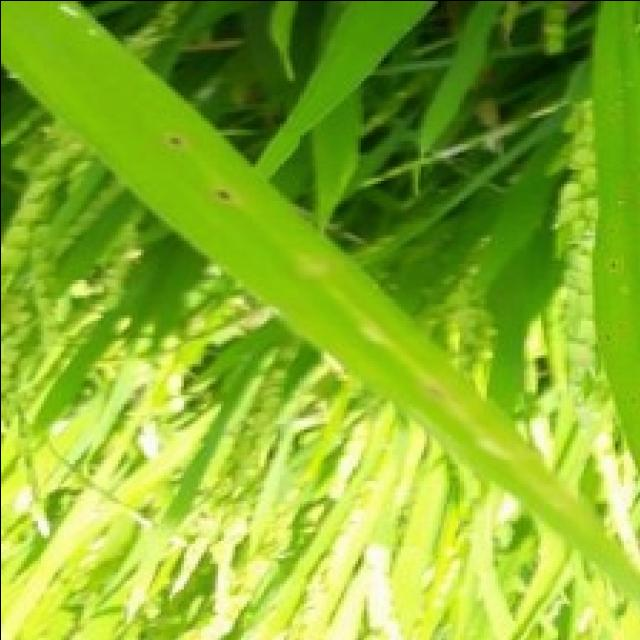Unhealthy: (292, 254, 568, 513), (213, 188, 232, 201), (165, 135, 184, 146)
